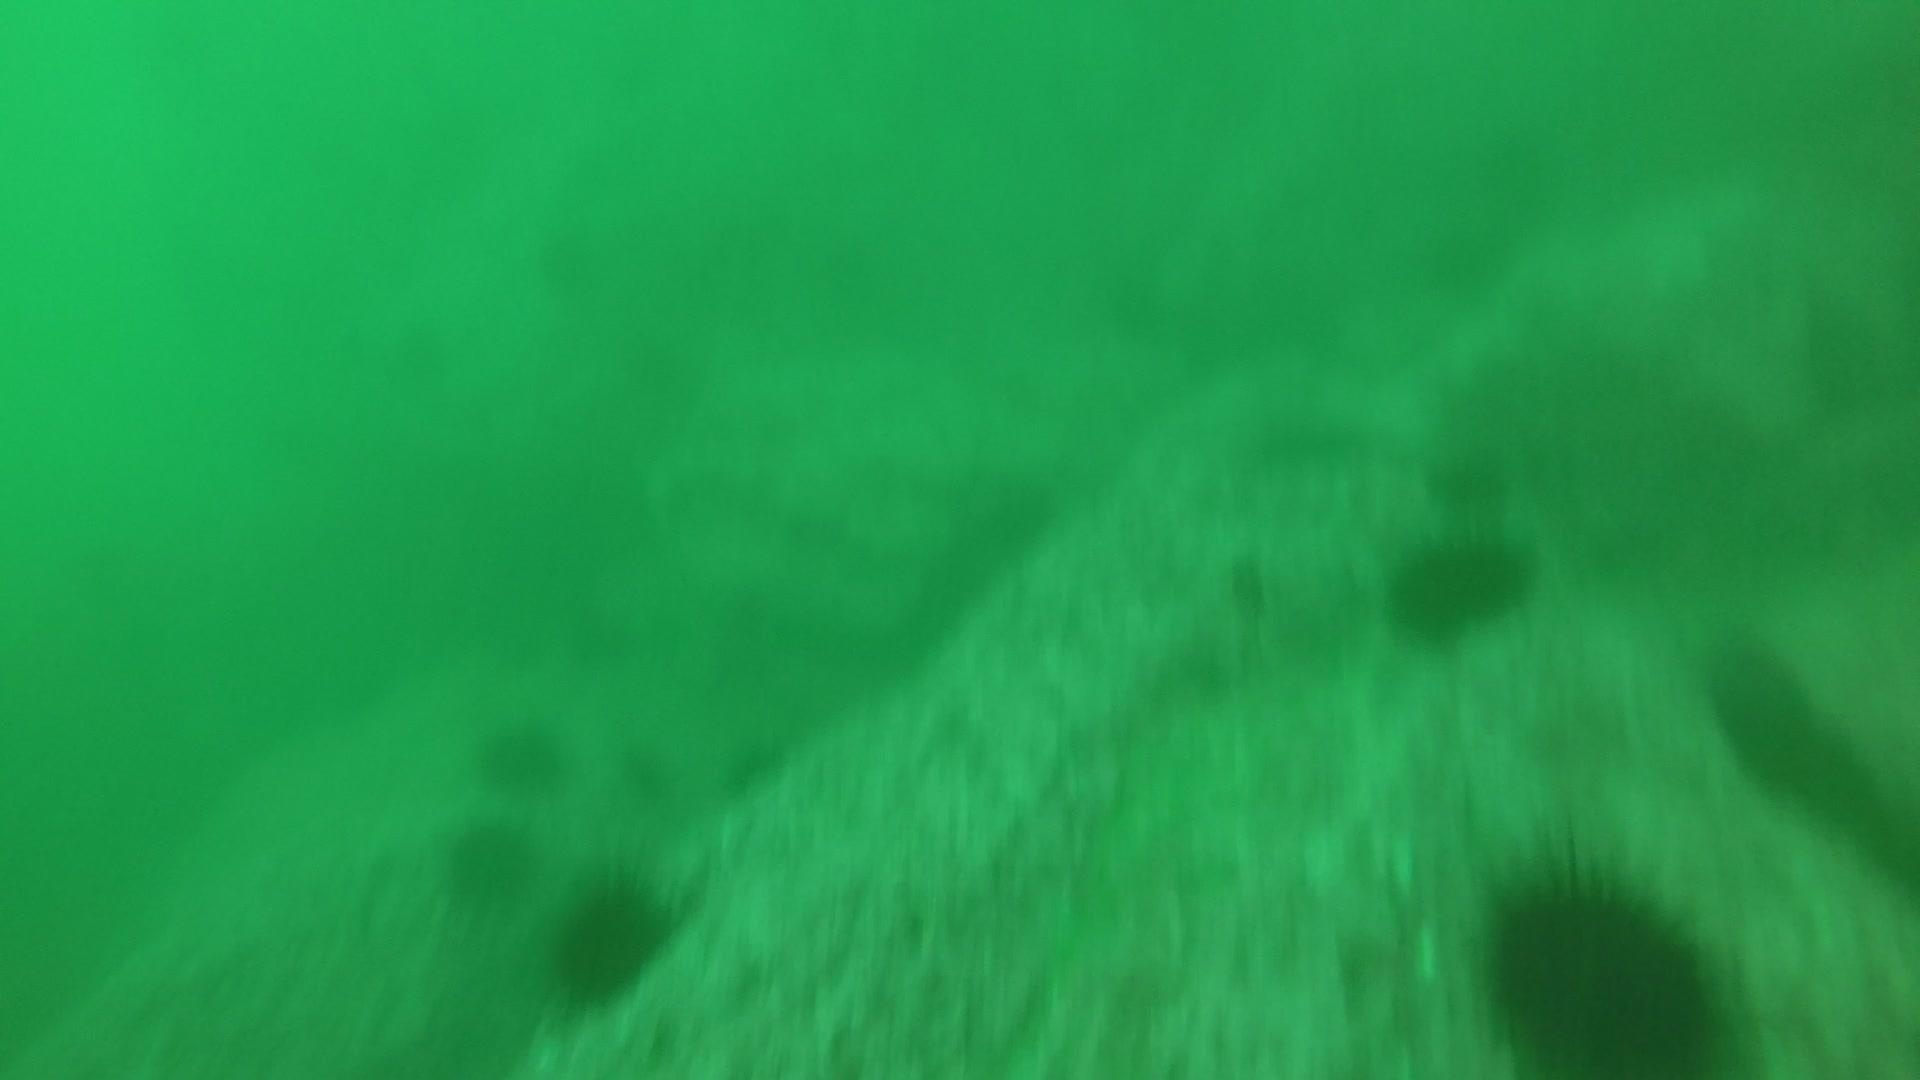echinus: (1469, 843, 1729, 1075), (542, 866, 680, 1010), (1382, 524, 1538, 644), (440, 814, 539, 906), (472, 711, 571, 795), (1424, 440, 1514, 516)
